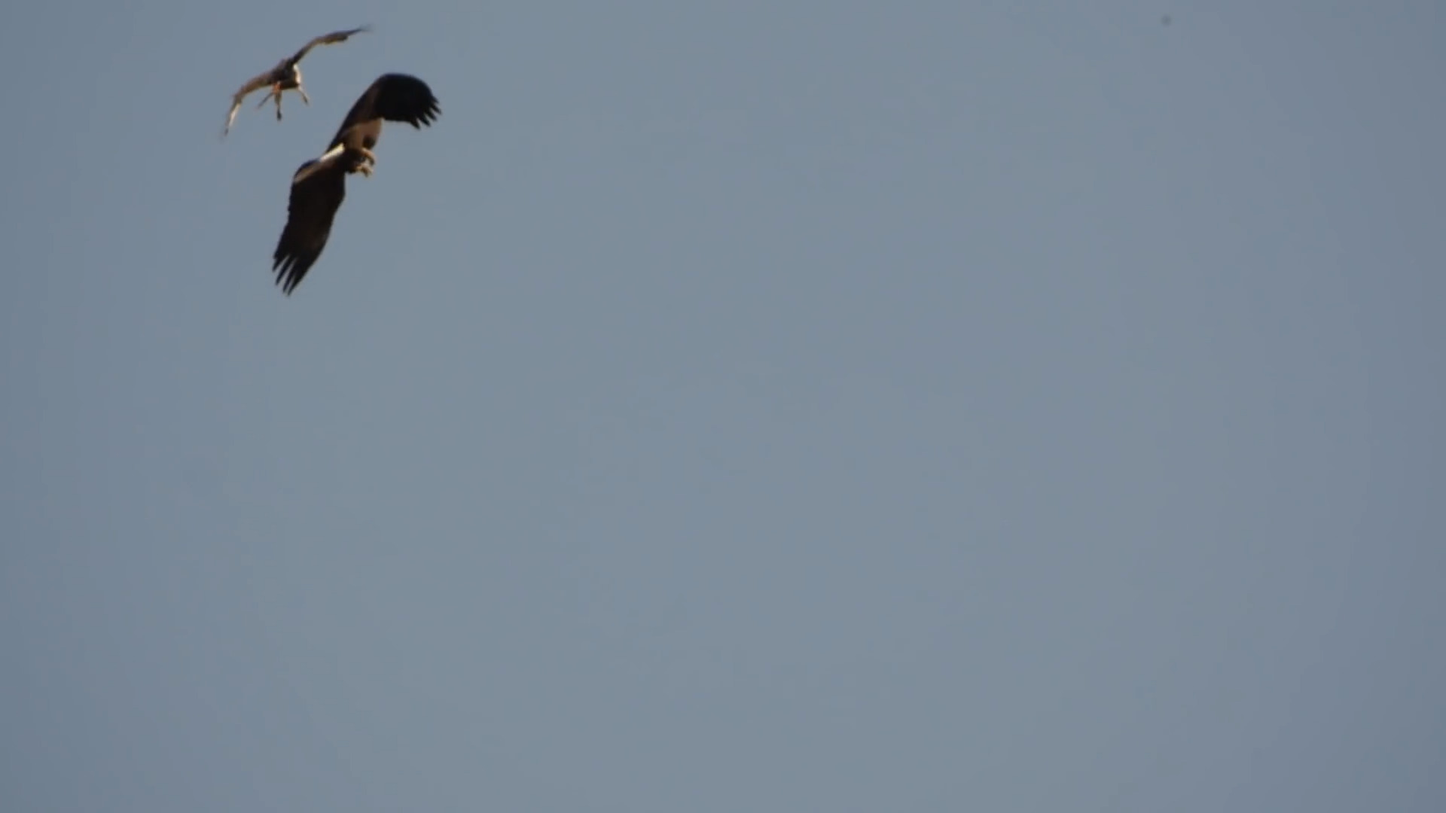not_drone: (281, 68, 438, 297), (215, 21, 364, 136)
